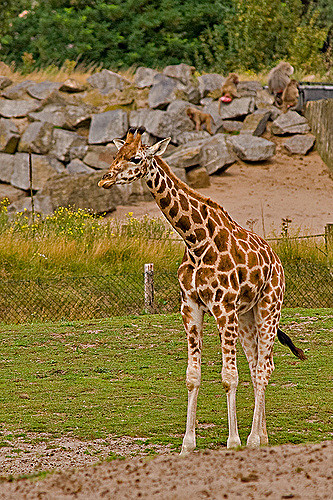giraffe: (89, 127, 304, 464)
